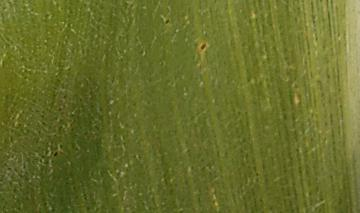tarspot: (199, 41, 207, 52), (163, 17, 171, 26), (52, 151, 59, 158), (57, 142, 63, 150)
